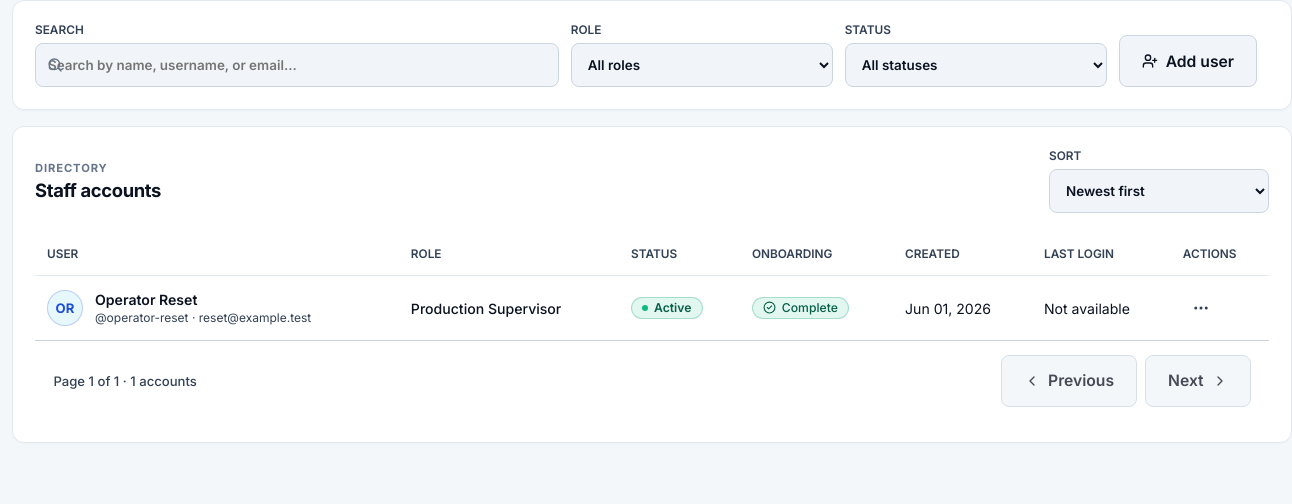
Test: sends a password reset link from the account actions and confirms provider acceptance
Click the button named "actions for operator reset" at (1201, 308), box x1=1183 y1=290 x2=1219 y2=326
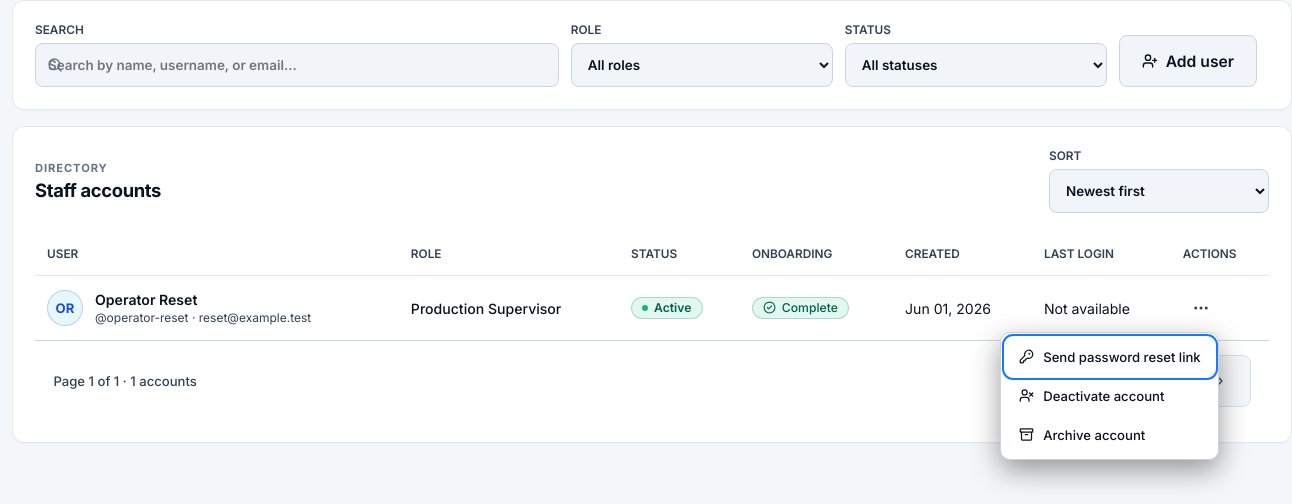
Click the button "Send password reset link" at (1110, 357), box x1=1007 y1=339 x2=1213 y2=375
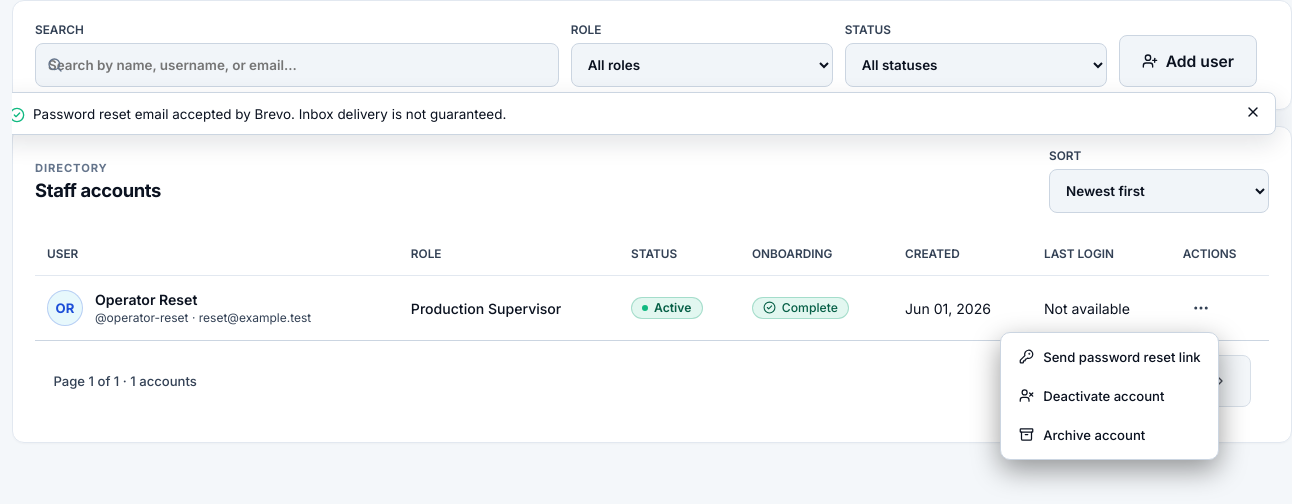
Expected: the message shows "Password reset email accepted by Brevo", x1=33 y1=106 x2=506 y2=122
